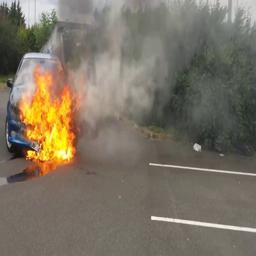fire: (19, 65, 77, 160)
